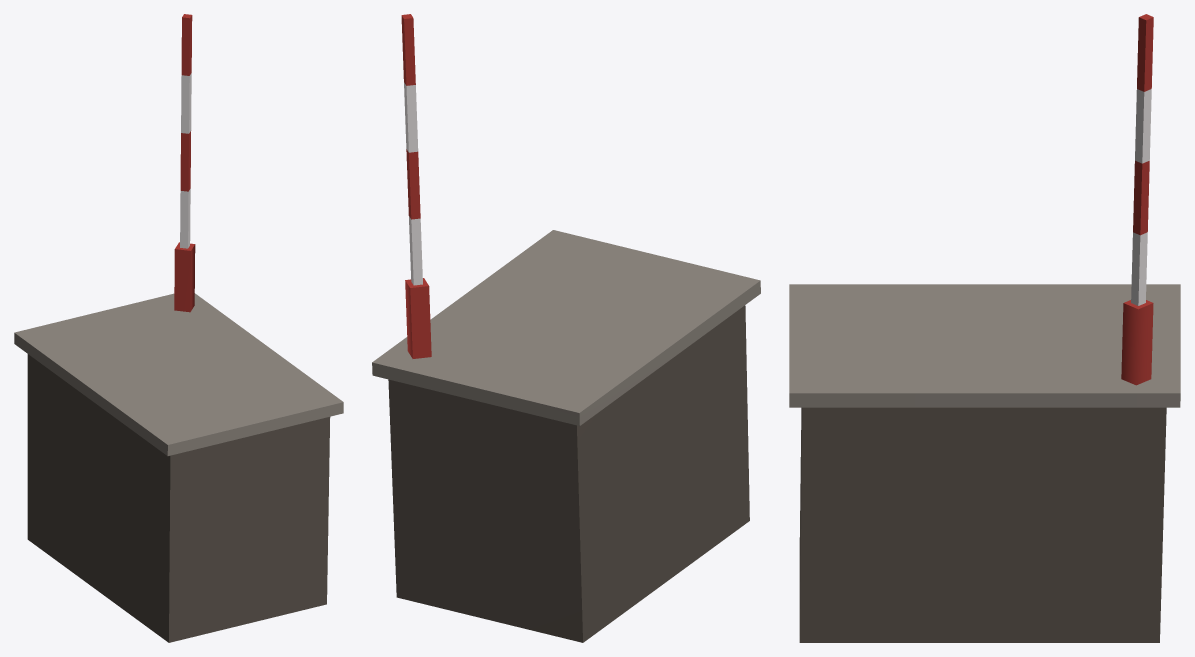
The model's file is Building_RoofPart06.fbx.
3 views of the same model, side by side, from view 1: azimuth 30°, elevation 25°; view 2: azimuth 150°, elevation 25°; view 3: azimuth 270°, elevation 25° (orthographic). The views are drawn at different scales.
Parts seen in each view (by area): view 1: Building_roofpart06; view 2: Building_roofpart06; view 3: Building_roofpart06.
Boxes of the visible parts, bbox=[...] form: Building_roofpart06: bbox=[14, 14, 343, 642]; Building_roofpart06: bbox=[372, 14, 760, 642]; Building_roofpart06: bbox=[789, 14, 1180, 642].
Bounding box in the file's own units: 112 × 297 × 169.
